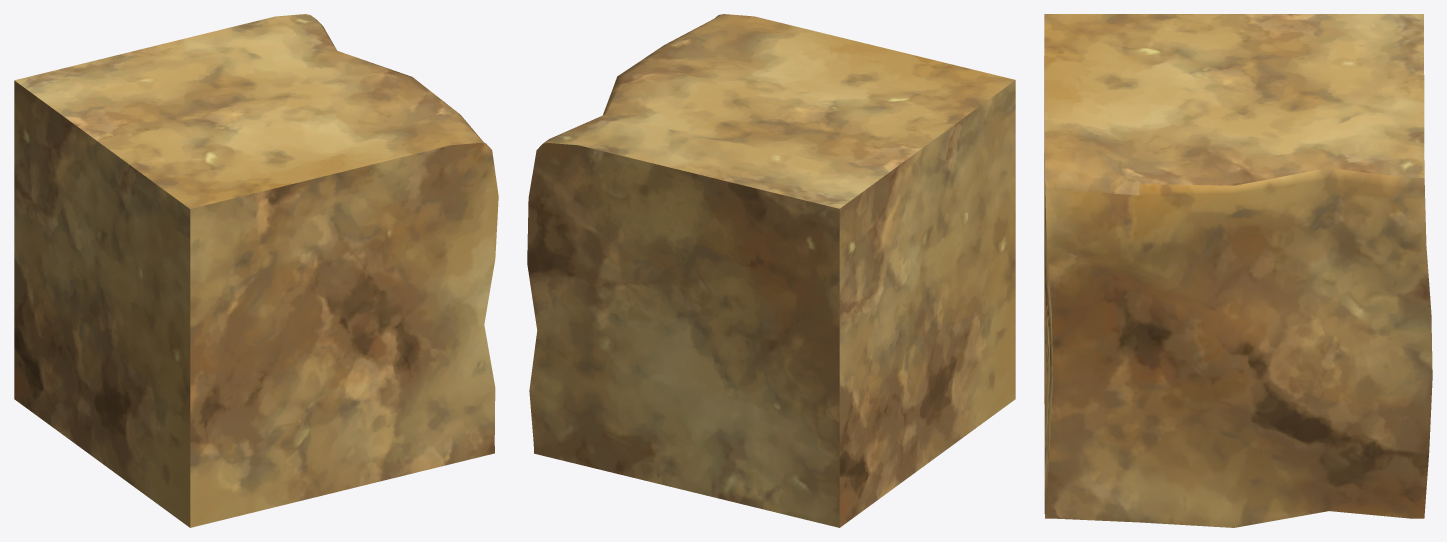
File: DirtWallTop.fbx
The picture shows the model from 3 angles, left to right: view 1: azimuth 30°, elevation 25°; view 2: azimuth 150°, elevation 25°; view 3: azimuth 270°, elevation 25°; orthographic projection. The views are drawn at different scales.
Parts seen in each view (by area): view 1: DirtWallTop; view 2: DirtWallTop; view 3: DirtWallTop.
Part boxes in pixels (box(x1,y1,x2,y2)): DirtWallTop: box(14, 14, 498, 527); DirtWallTop: box(527, 14, 1015, 527); DirtWallTop: box(1044, 14, 1432, 527).
Size of the model in its own units: 221 by 204 by 205.
